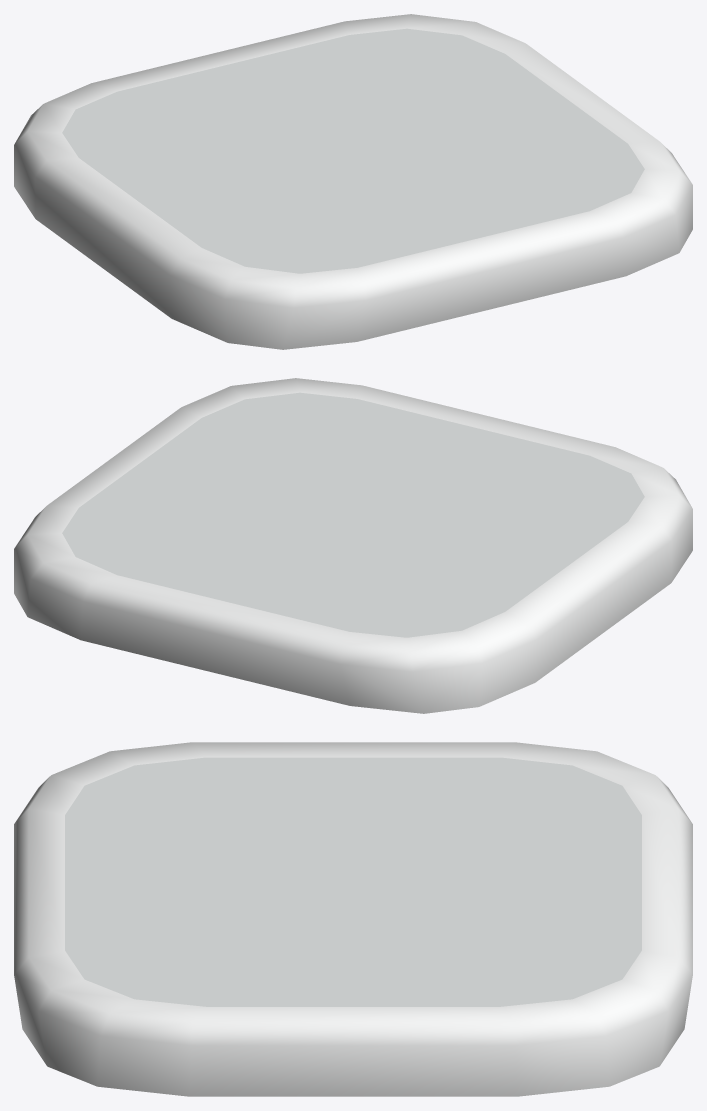
File: ShooterBlockSlot.fbx
3 renders of one model, top to bottom at view 1: azimuth 30°, elevation 25°; view 2: azimuth 150°, elevation 25°; view 3: azimuth 270°, elevation 25°, orthographic. The views are drawn at different scales.
Parts seen in each view (by area): view 1: ShooterBlockSlot; view 2: ShooterBlockSlot; view 3: ShooterBlockSlot.
Boxes of the visible parts, box(x1,y1,x2,y2) form: ShooterBlockSlot: box(14, 14, 692, 349); ShooterBlockSlot: box(14, 378, 692, 713); ShooterBlockSlot: box(14, 742, 692, 1096).
Size of the model in its own units: 225 by 24.49 by 220.
